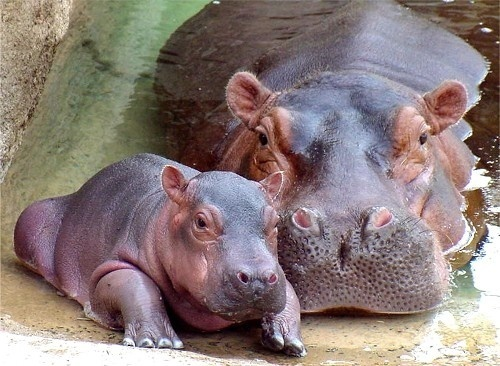hipopotamo: (157, 1, 500, 320), (1, 135, 323, 359)
